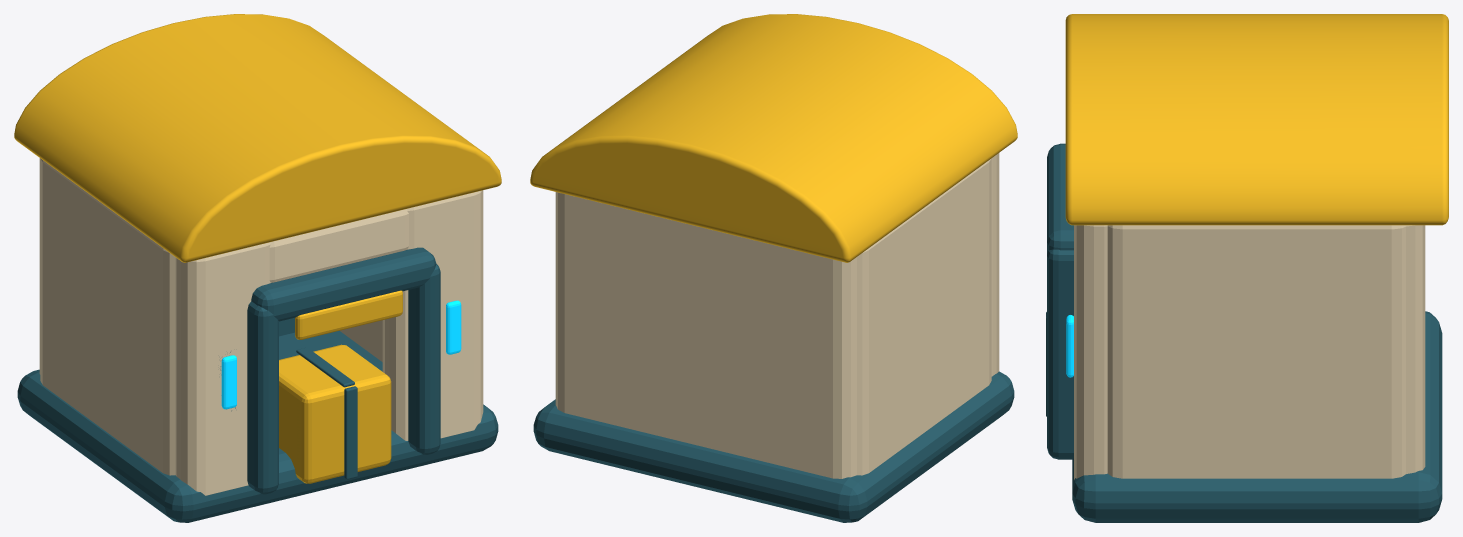
File: storage.glb
3 views of the same model, side by side, from view 1: azimuth 30°, elevation 25°; view 2: azimuth 150°, elevation 25°; view 3: azimuth 270°, elevation 25° (orthographic). The views are drawn at different scales.
Parts seen in each view (by area): view 1: Curved golden roof, Storage left wall, Storage front left, Storage foundation, Storage front right, Cargo, Door frame header, Storage front lintel, Door jamb, Door jamb.001, Door top shutter, Cargo strap (+4 smaller); view 2: Curved golden roof, Storage back wall, Storage left wall, Storage foundation, Storage front left; view 3: Curved golden roof, Storage right wall, Storage foundation, Storage front right, Door jamb.001, Storage back wall, Door frame header, Storage indicator.001.
Boxes of the visible parts, x1,y1,x2,y2 form: Curved golden roof: (14, 14, 501, 262); Storage left wall: (40, 158, 175, 475); Storage front left: (175, 242, 270, 495); Storage foundation: (17, 330, 498, 522); Storage front right: (382, 190, 483, 440); Cargo: (279, 344, 391, 483); Door frame header: (251, 247, 436, 321); Storage front lintel: (269, 209, 408, 282); Door jamb: (247, 301, 278, 494); Door jamb.001: (408, 264, 440, 454); Door top shutter: (295, 290, 402, 339); Cargo strap: (344, 386, 357, 479); Curved golden roof: (530, 14, 1017, 262); Storage back wall: (555, 192, 856, 478); Storage left wall: (857, 158, 991, 475); Storage foundation: (533, 371, 1014, 522); Storage front left: (991, 153, 999, 376); Curved golden roof: (1065, 14, 1448, 225); Storage right wall: (1107, 225, 1405, 478); Storage foundation: (1072, 311, 1442, 522); Storage front right: (1074, 225, 1107, 479); Door jamb.001: (1047, 249, 1073, 459); Storage back wall: (1406, 225, 1425, 473); Door frame header: (1047, 143, 1073, 252); Storage indicator.001: (1066, 315, 1073, 377).
Bounding box in the file's own units: 1.27 × 1.28 × 1.2.
